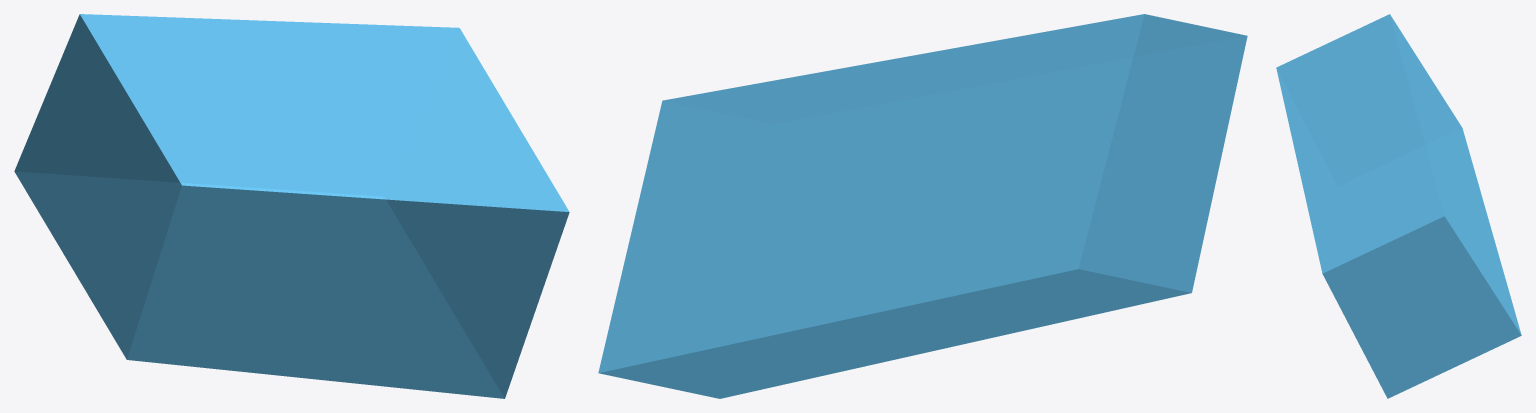
The model's file is Event_421278790_HErechit_32.fbx.
3 renders of one model, left to right at view 1: azimuth 30°, elevation 25°; view 2: azimuth 150°, elevation 25°; view 3: azimuth 270°, elevation 25°, orthographic. The views are drawn at different scales.
Parts seen in each view (by area): view 1: Model; view 2: Model; view 3: Model.
Boxes of the visible parts, left/top/right/bottom form: Model: left=14, top=14, right=569, bottom=398; Model: left=598, top=14, right=1247, bottom=398; Model: left=1276, top=14, right=1521, bottom=398.
Bounding box in the file's own units: 0.8249 × 0.894 × 0.7361.
